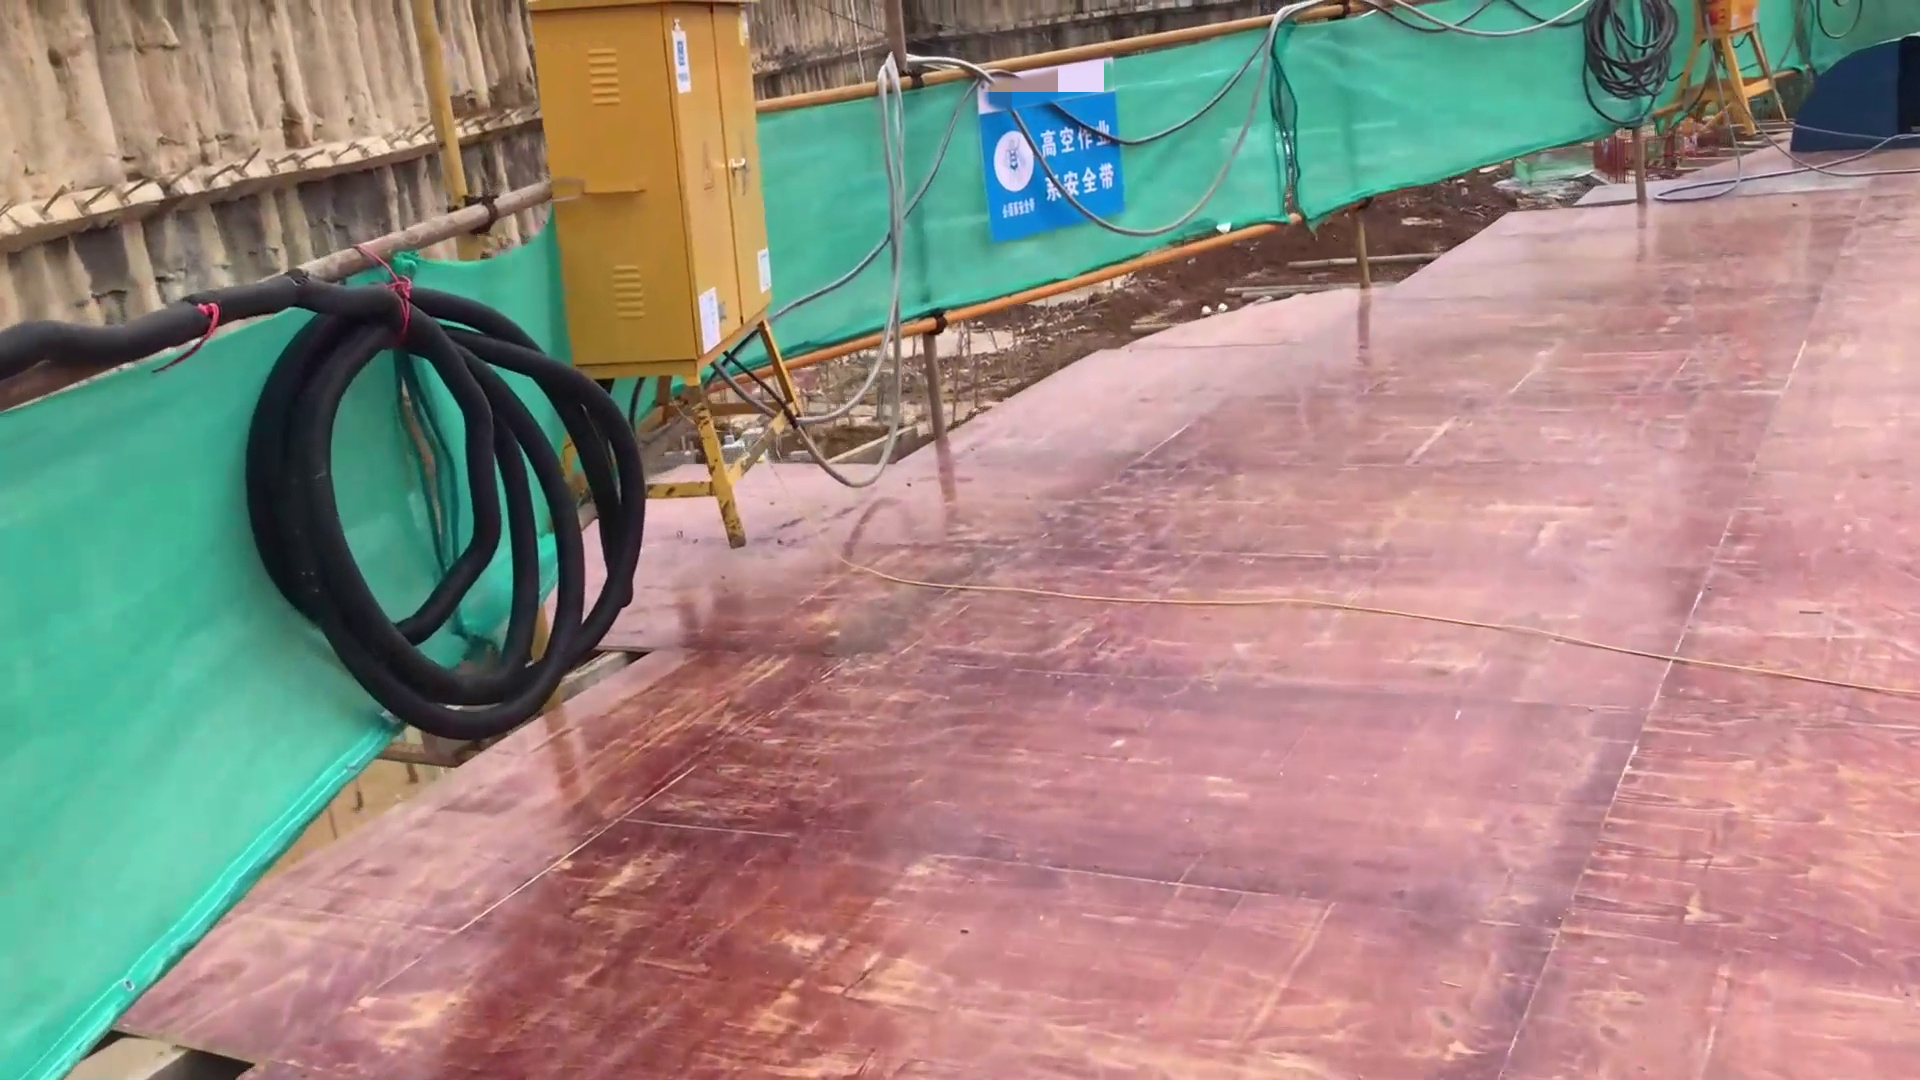ebox: (564, 1, 785, 409)
slogan: (971, 88, 1129, 252)
